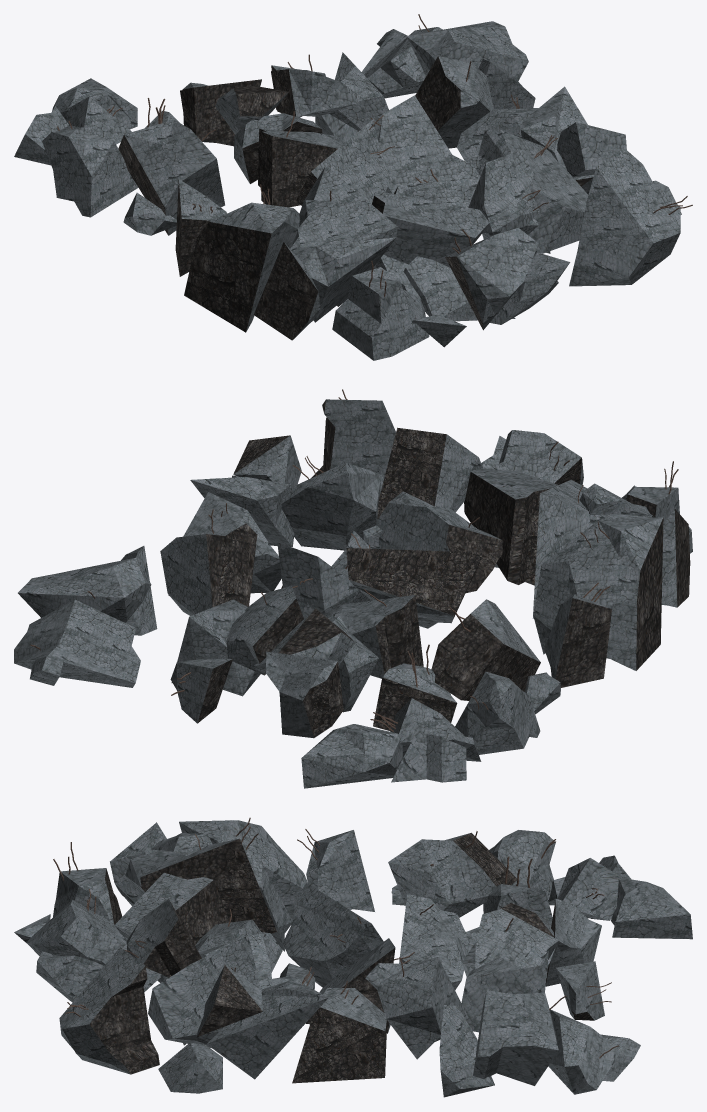
The model's file is Rock_BrokenSmall1.fbx.
3 renders of one model, top to bottom at view 1: azimuth 30°, elevation 25°; view 2: azimuth 150°, elevation 25°; view 3: azimuth 270°, elevation 25°, orthographic. The views are drawn at different scales.
Visible parts, largest first — view 1: SMO_BG50_walkway_break_0120; view 2: SMO_BG50_walkway_break_0120; view 3: SMO_BG50_walkway_break_0120.
Part boxes in pixels (<box>): SMO_BG50_walkway_break_0120: <box>14,14,692,360</box>; SMO_BG50_walkway_break_0120: <box>14,389,692,788</box>; SMO_BG50_walkway_break_0120: <box>14,817,692,1097</box>.
Bounding box in the file's own units: 4427 × 1236 × 5813.
